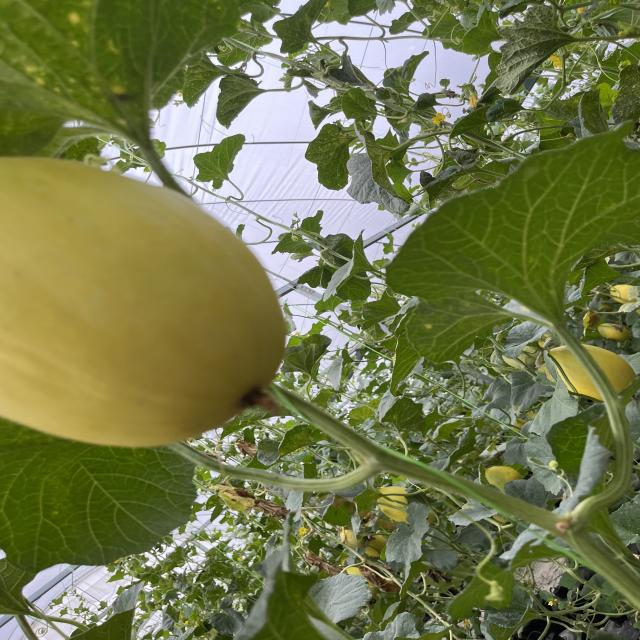CMV: (486, 5, 562, 97)
SLCV: (281, 334, 334, 376)
downy mildew: (303, 121, 360, 190), (254, 424, 313, 470), (372, 390, 430, 430)
healthy: (526, 433, 623, 490), (528, 356, 582, 436), (272, 0, 341, 54), (384, 500, 434, 564), (192, 134, 248, 190), (308, 576, 372, 622), (341, 84, 378, 118)
